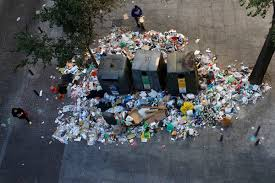garbage: (59, 97, 230, 139), (197, 54, 249, 98), (102, 29, 187, 52), (61, 69, 98, 95)
